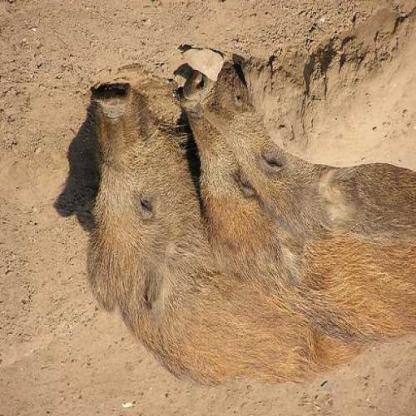boar: (76, 62, 219, 389)
